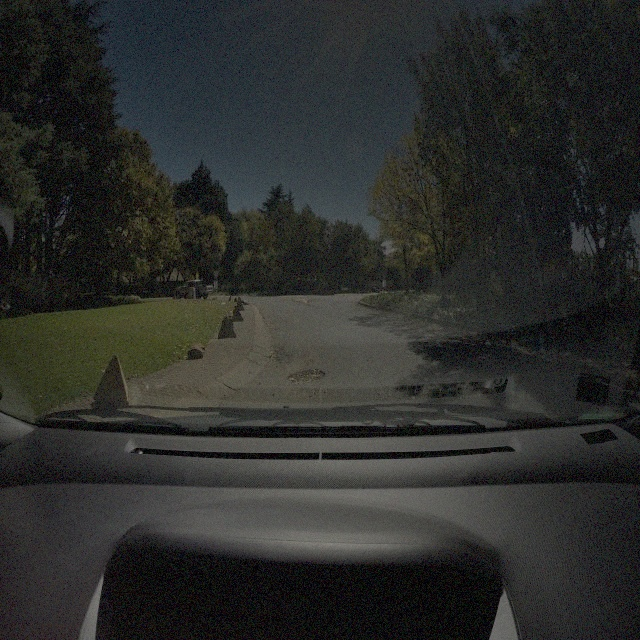pothole: (286, 367, 328, 385)
